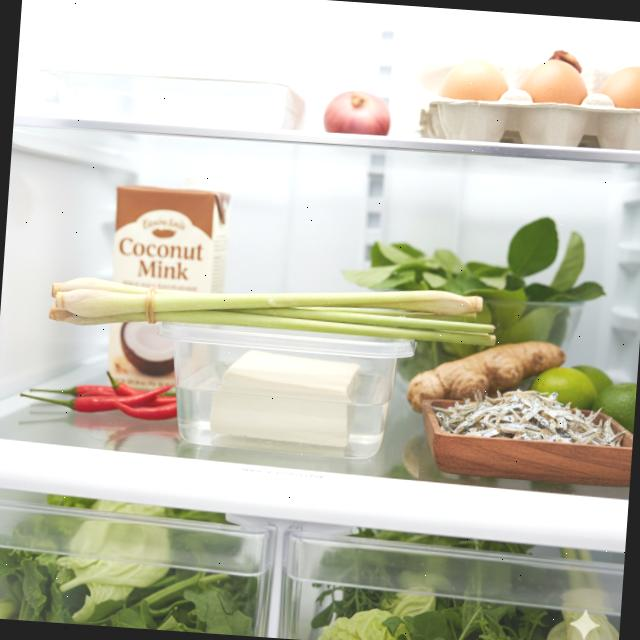anchovies: (432, 383, 626, 448)
chili: (20, 366, 178, 422)
egg: (418, 50, 640, 153)
ginger: (406, 331, 568, 423)
leafy_greens: (335, 203, 610, 393), (0, 489, 264, 636), (307, 524, 565, 640)
lemongrass: (46, 264, 498, 352)
lime: (525, 360, 637, 435)
onion: (322, 88, 392, 136)
tofu: (206, 345, 362, 447)
